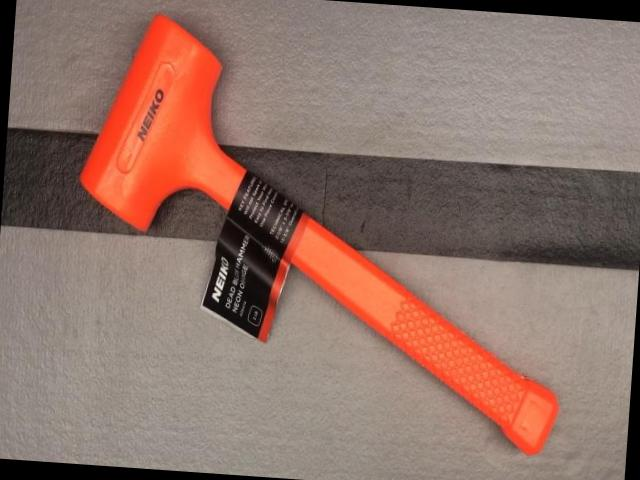hammer: (61, 9, 582, 456)
